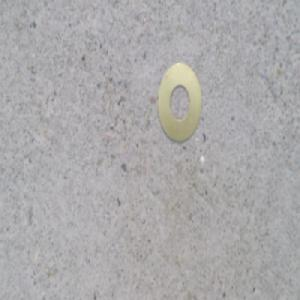Washer: (157, 62, 202, 142)
